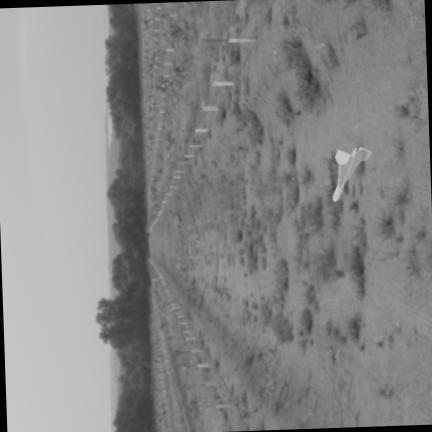Shahed: (333, 147, 370, 201)
